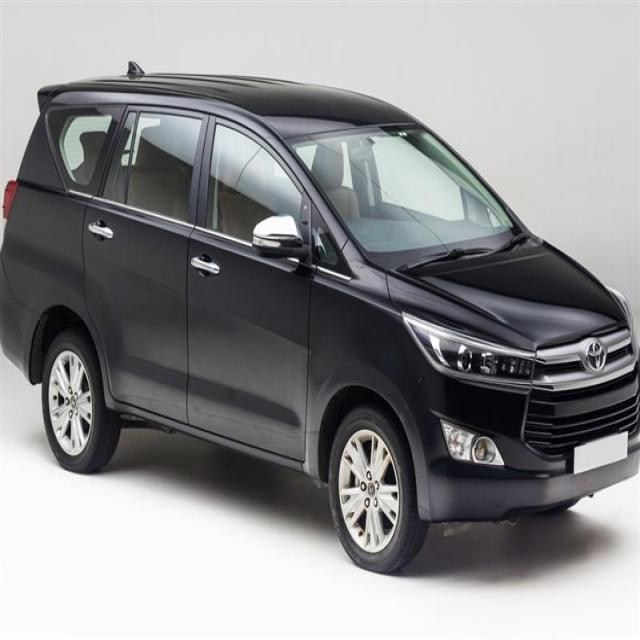light_vehicle: (1, 65, 639, 574)
